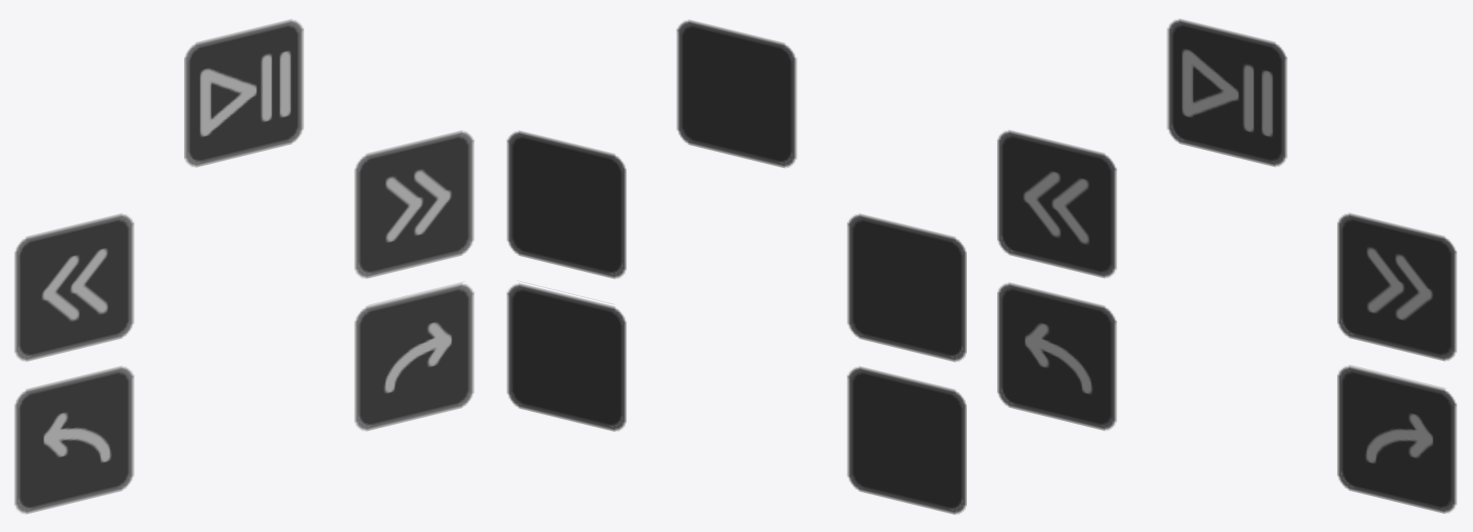
File: controls.gltf
The picture shows the model from 3 angles, left to right: view 1: azimuth 30°, elevation 25°; view 2: azimuth 150°, elevation 25°; view 3: azimuth 330°, elevation 25°; orthographic projection.
Parts seen in each view (by area): view 1: SkipForward, PlayPause, SpeedUp, SkipBack, SpeedDown; view 2: PlayPause, SkipForward, SkipBack, SpeedDown, SpeedUp; view 3: SkipForward, SpeedDown, SpeedUp, PlayPause, SkipBack.
Boxes of the visible parts, bbox=[...] form: SkipForward: bbox=[354, 282, 474, 430]; PlayPause: bbox=[184, 19, 303, 167]; SpeedUp: bbox=[354, 130, 474, 278]; SkipBack: bbox=[14, 366, 133, 513]; SpeedDown: bbox=[14, 213, 133, 361]; PlayPause: bbox=[676, 20, 796, 167]; SkipForward: bbox=[507, 283, 626, 431]; SkipBack: bbox=[847, 366, 966, 514]; SpeedDown: bbox=[847, 214, 966, 361]; SpeedUp: bbox=[507, 131, 626, 278]; SkipForward: bbox=[1337, 365, 1456, 513]; SpeedDown: bbox=[997, 130, 1116, 278]; SpeedUp: bbox=[1337, 213, 1456, 360]; PlayPause: bbox=[1167, 19, 1287, 166]; SkipBack: bbox=[997, 282, 1116, 430].
Size of the model in its own units: 0.38 by 0.34 by 0.0015.
6 materials, 6 textured.
